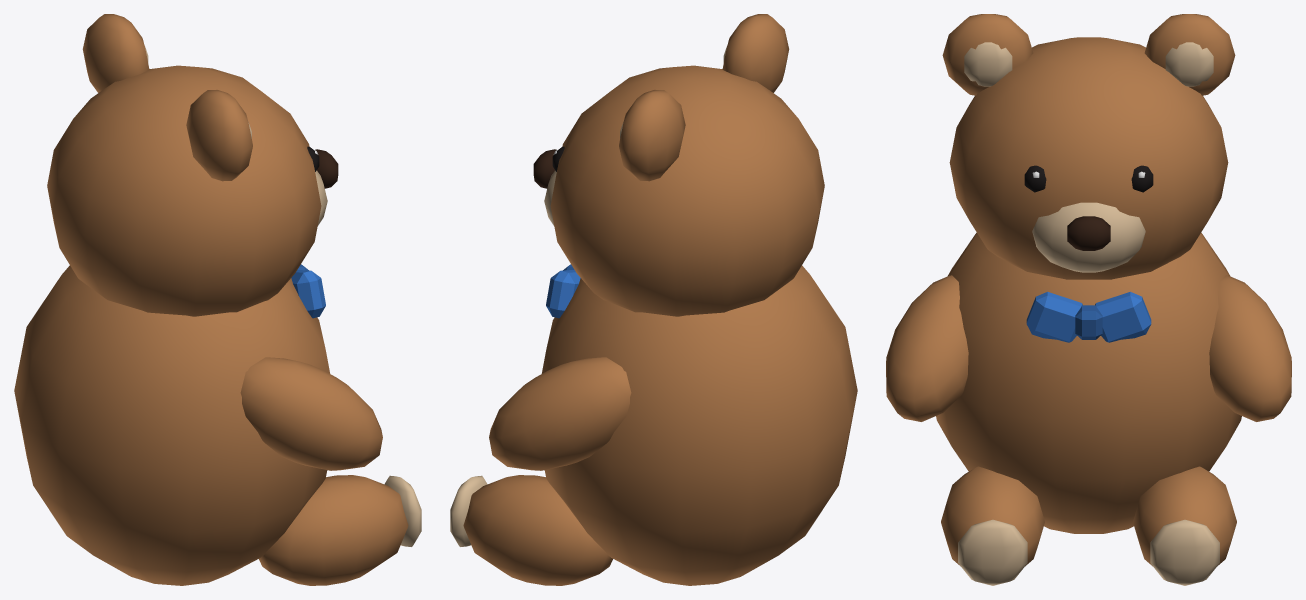
File: toy-deco2.glb
The picture shows the model from 3 angles, left to right: view 1: azimuth 30°, elevation 25°; view 2: azimuth 150°, elevation 25°; view 3: azimuth 270°, elevation 25°; orthographic projection. The views are drawn at different scales.
Parts seen in each view (by area): view 1: toy-deco2; view 2: toy-deco2; view 3: toy-deco2.
Part boxes in pixels (x1,y1,x2,y2): toy-deco2: [14, 14, 421, 585]; toy-deco2: [450, 14, 857, 585]; toy-deco2: [886, 14, 1291, 585].
Size of the model in its own units: 2.13 by 3.28 by 2.4.
